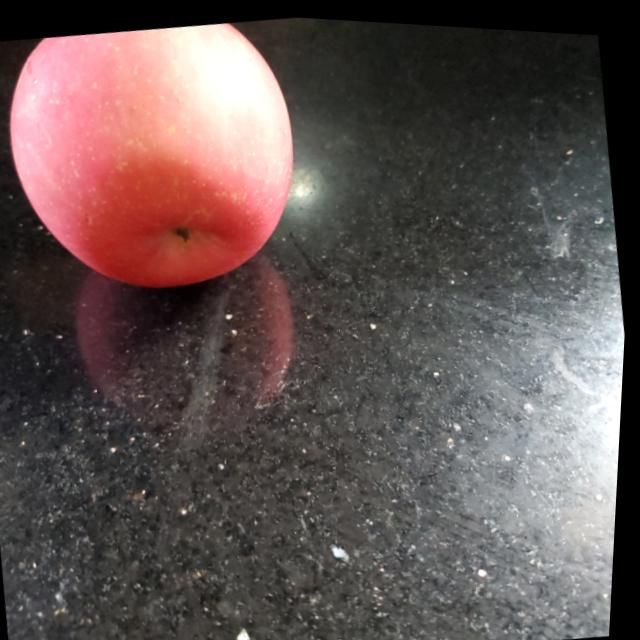apple: (0, 5, 323, 314)
